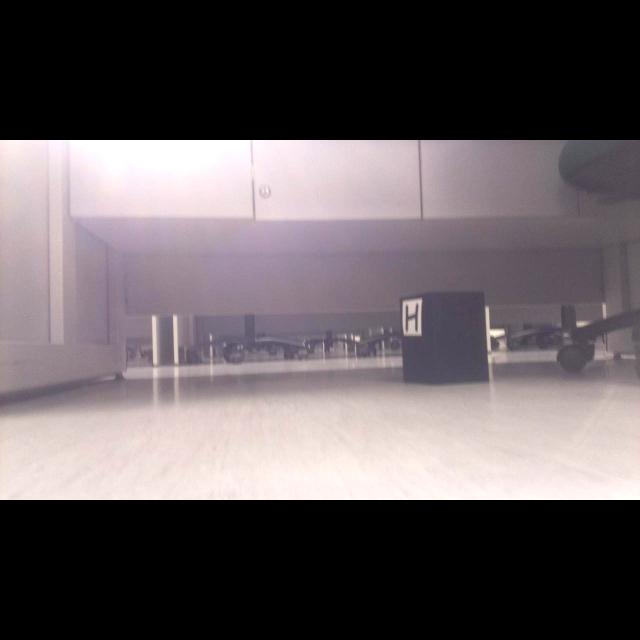H: (406, 304, 418, 333)
